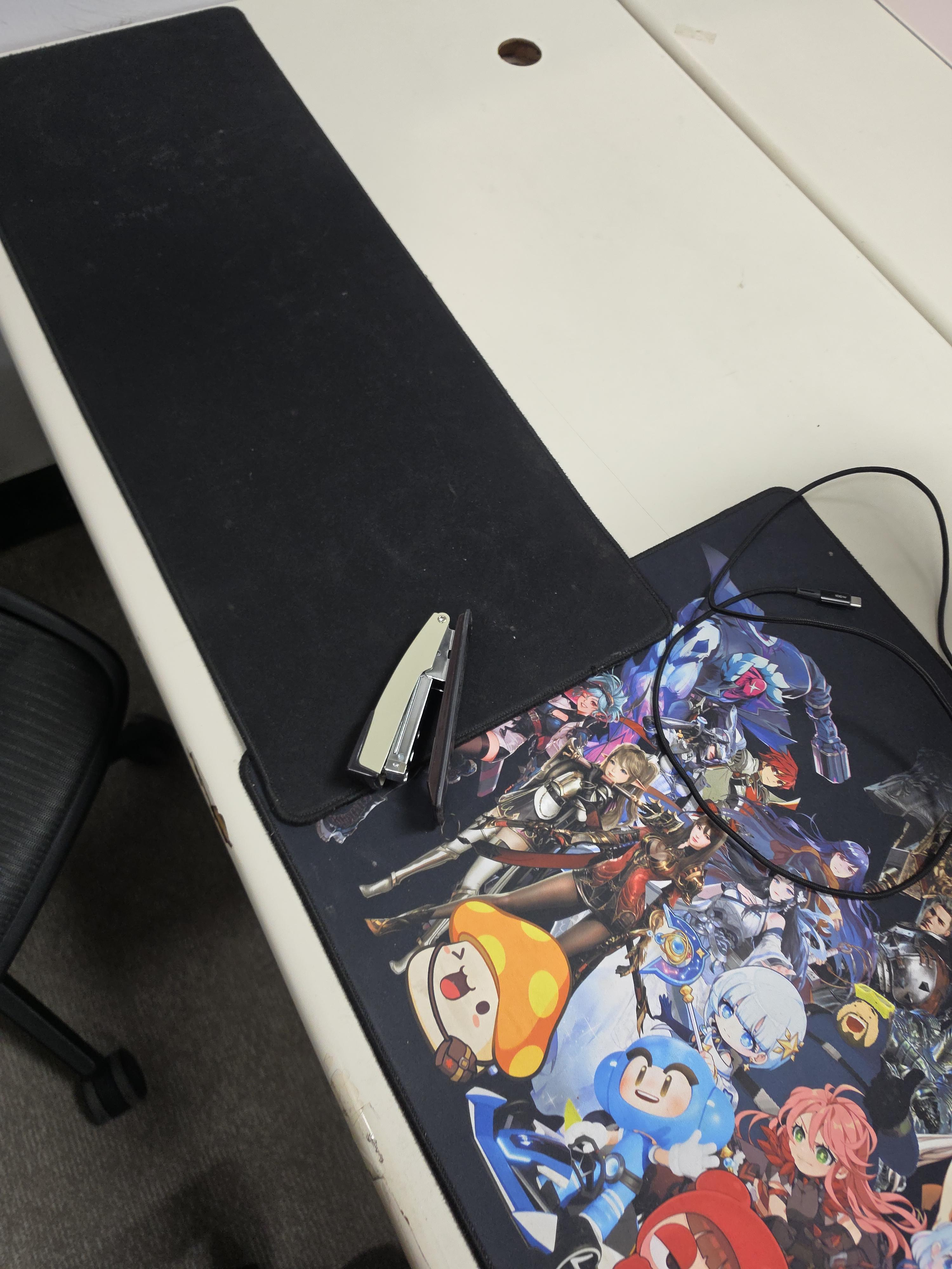stapler: (347, 609, 473, 827)
